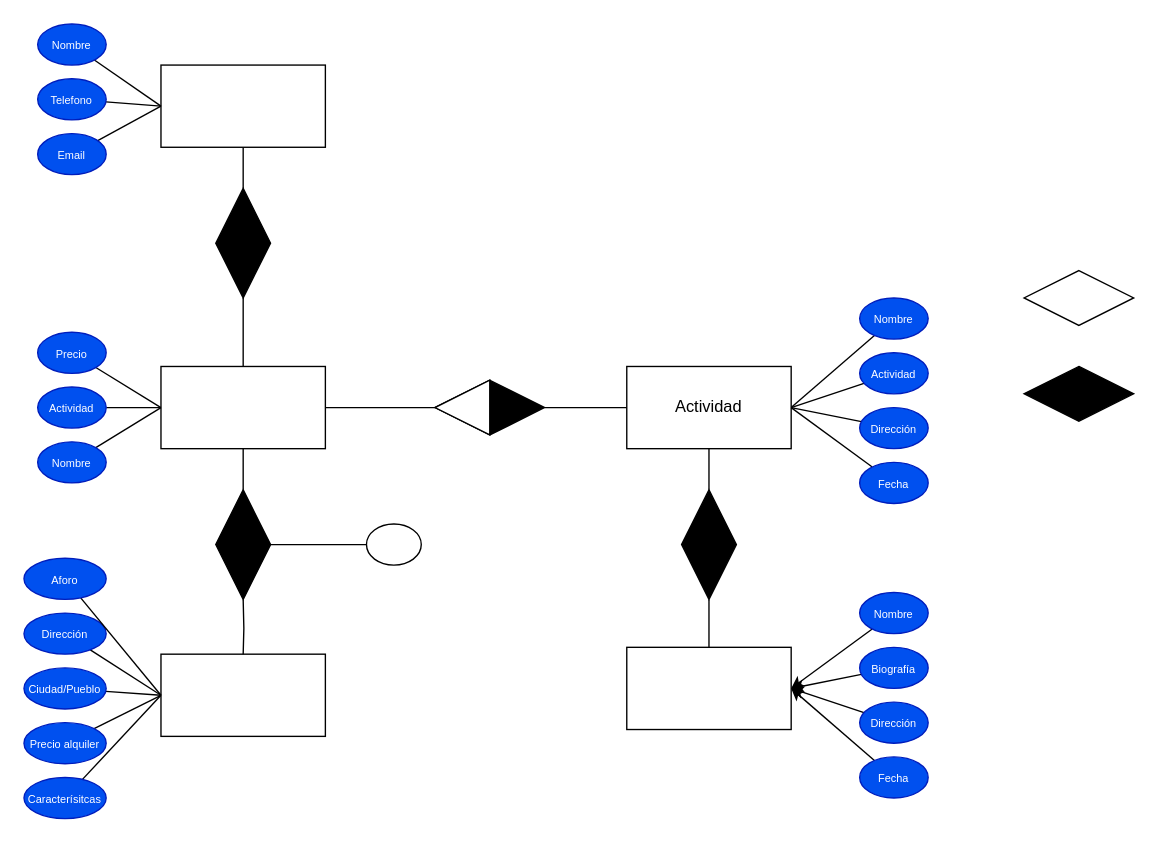
This 1158x843 diagram has some shape labels left out. The centre of each missing label's shape, as x and y in pixels:
"Artista" goes at (708,688).
"Asistente" goes at (242,105).
"Evento" goes at (242,407).
"Ubicación" goes at (242,694).
